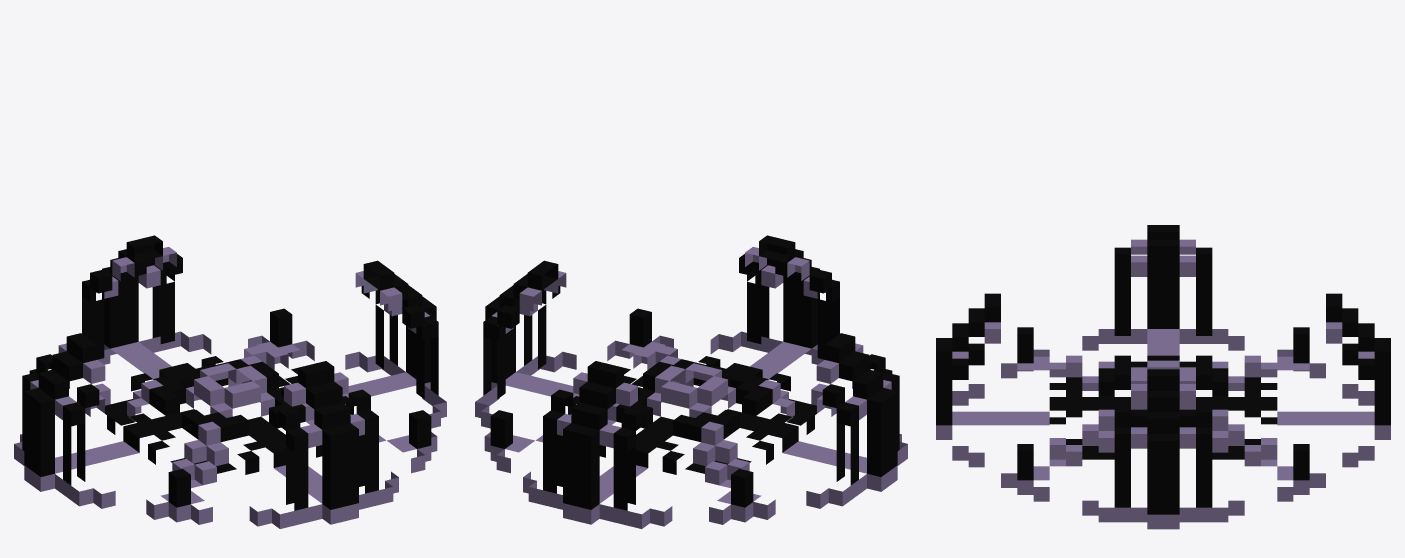
Rendered from MagicTowerT1_1.obj.
3 renders of one model, left to right at view 1: azimuth 30°, elevation 25°; view 2: azimuth 150°, elevation 25°; view 3: azimuth 270°, elevation 25°, orthographic.
Size of the model in its own units: 2.8 by 2.9 by 2.8.
